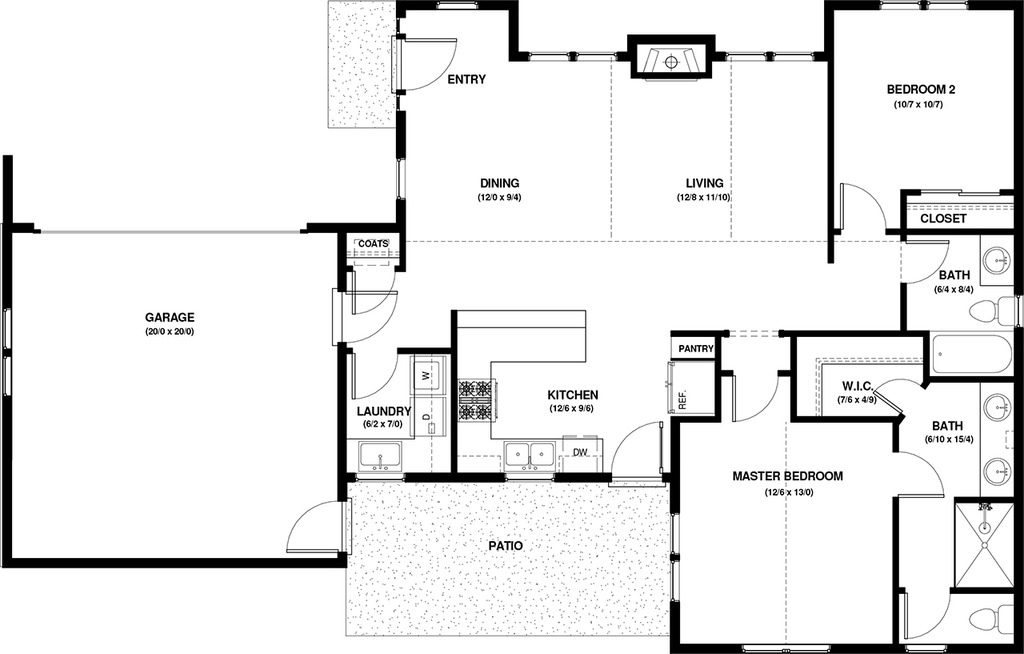door: (289, 498, 353, 554), (331, 290, 397, 344), (608, 422, 663, 486), (396, 38, 456, 88), (345, 350, 397, 402), (901, 592, 959, 638), (836, 183, 887, 230), (734, 375, 780, 421), (901, 454, 946, 500), (905, 240, 949, 285), (876, 375, 926, 414), (351, 269, 394, 312)
kitchen_bar: (450, 312, 495, 457)
large_sink: (967, 597, 1018, 639), (966, 296, 1022, 329)
small_sink: (982, 235, 1015, 289)
tub: (930, 335, 1013, 385)
twin_sink: (979, 386, 1018, 495), (503, 445, 555, 478)
window: (1, 306, 14, 396), (879, 1, 966, 12), (528, 56, 614, 61), (399, 157, 407, 198)
